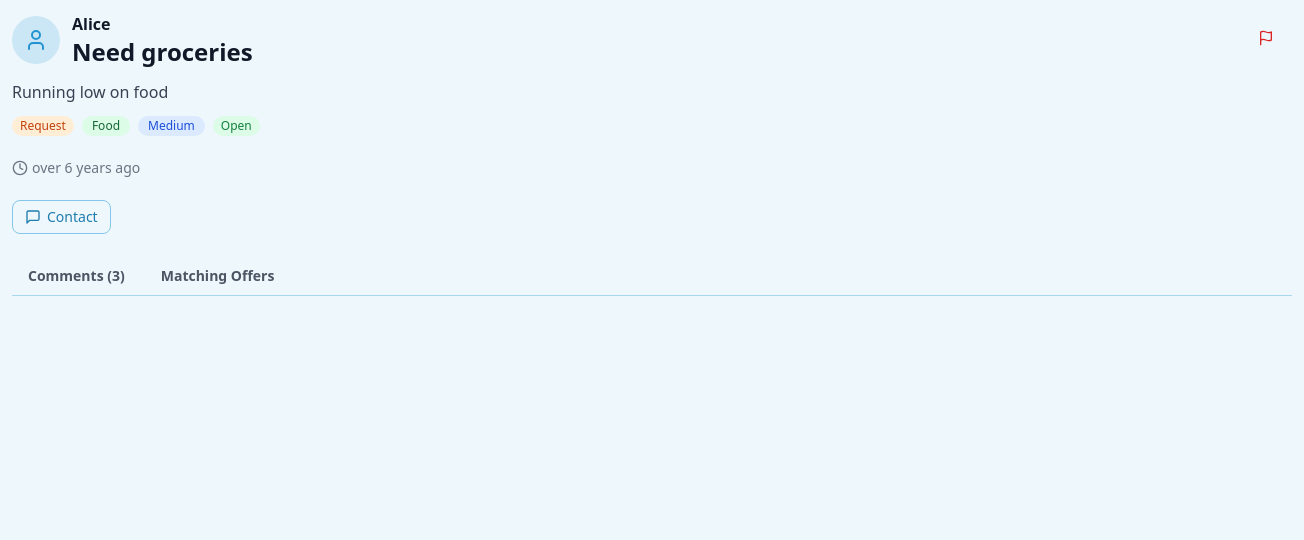
it: PostDetailContent — card variant sections › opens the comments section on click and closes it on a second click
This screenshot has width=1304, height=540.
Click the button "Comments (3)".
click(76, 277)  # box [12, 258, 141, 296]
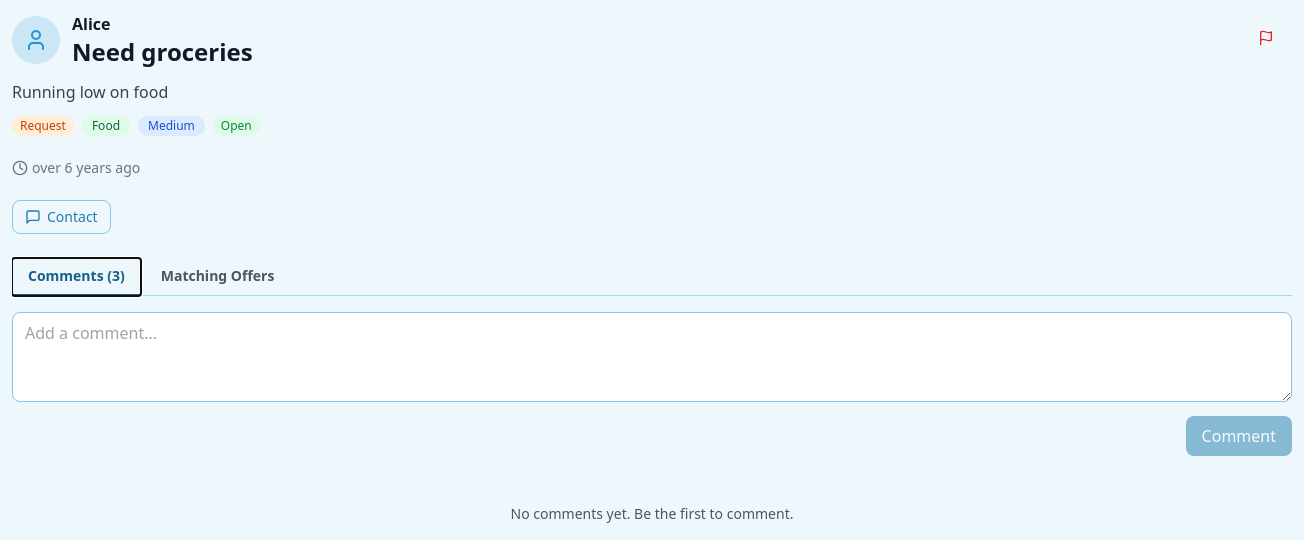
Expected: the button "Comments (3)" is expanded
Click the button "Comments (3)".
click(76, 277)  # box [12, 258, 141, 296]
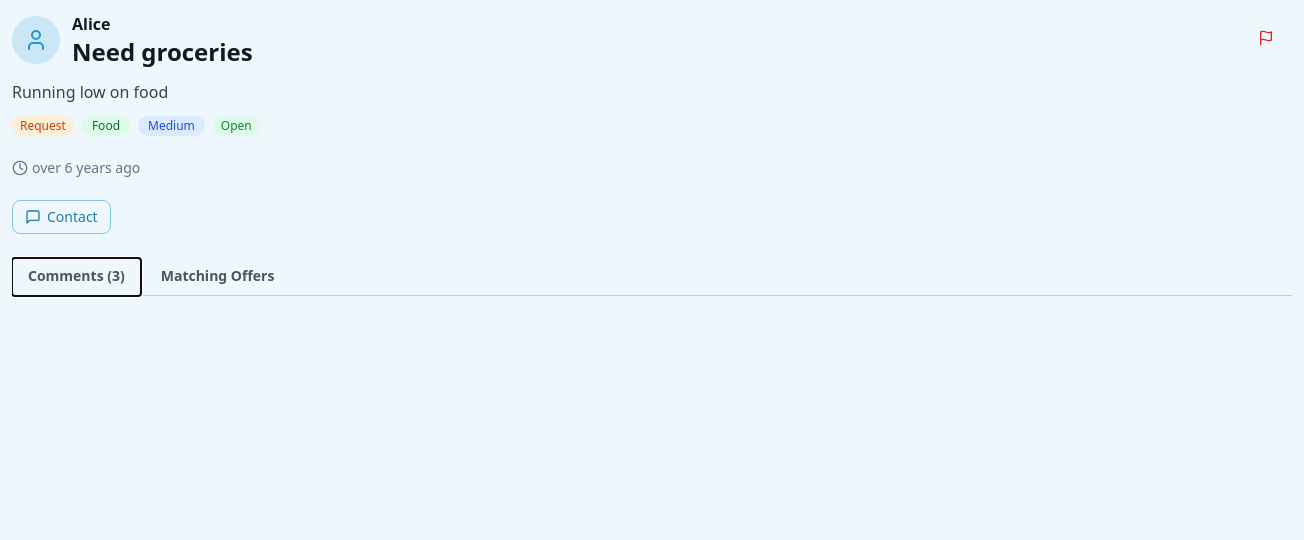
Expected: the field with placeholder "add a comment" is not shown
Expected: the button "Comments (3)" is collapsed, [12, 258, 141, 296]
